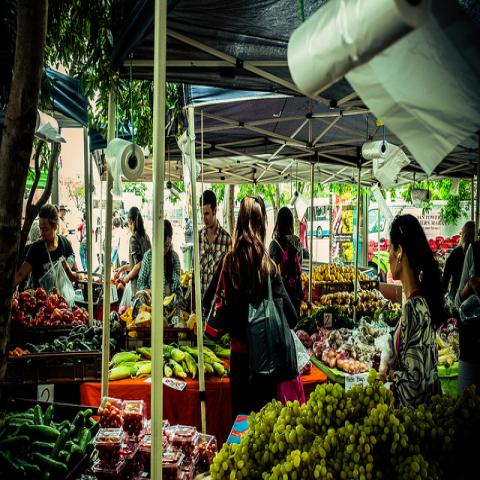bus: (304, 196, 331, 239)
truck: (368, 200, 470, 240)
